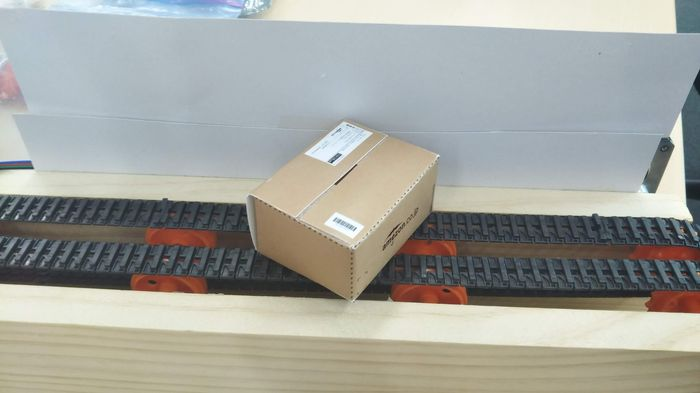box1: (242, 118, 440, 303)
